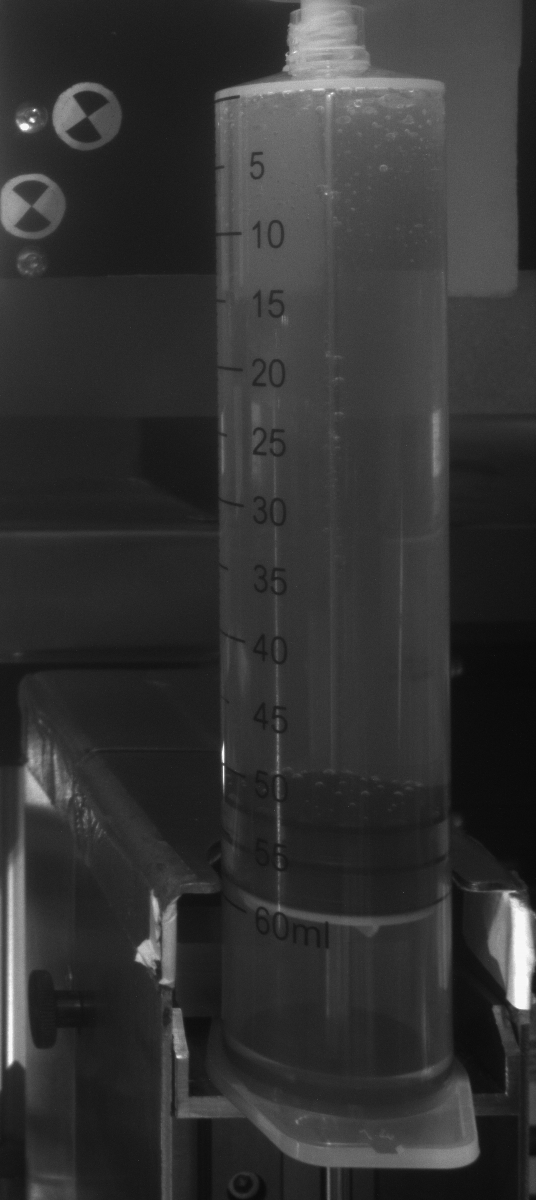piston: (221, 799, 454, 939)
